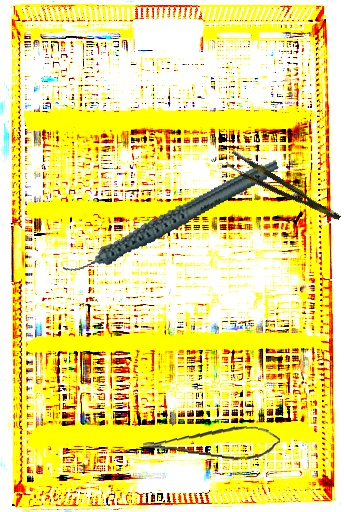Handpiece: (49, 159, 292, 277)
Micro Scissor: (142, 415, 281, 465)
Tissue Forceps: (224, 149, 342, 231)
